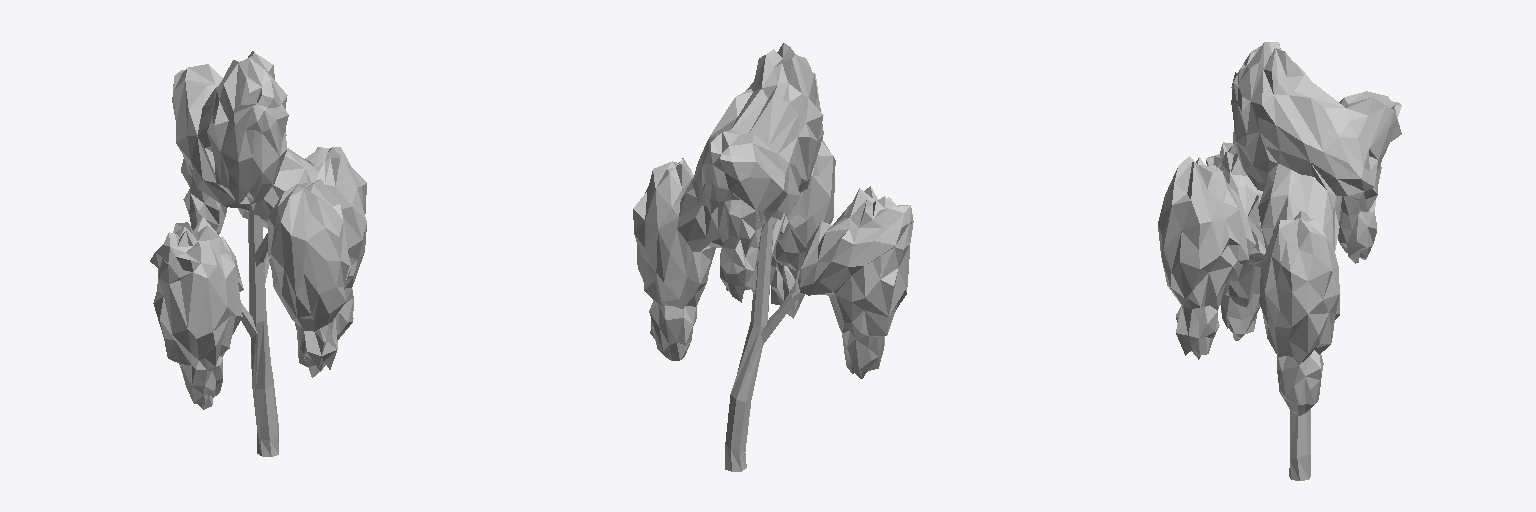
The model's file is tree_cylinder_2.obj.
3 renders of one model, left to right at view 1: azimuth 30°, elevation 25°; view 2: azimuth 150°, elevation 25°; view 3: azimuth 270°, elevation 25°, orthographic.
Visible parts, largest first — view 1: tree_cylinder_2; view 2: tree_cylinder_2; view 3: tree_cylinder_2.
Boxes of the visible parts, <box> form: tree_cylinder_2: <box>150,51,366,456</box>; tree_cylinder_2: <box>633,43,913,471</box>; tree_cylinder_2: <box>1158,42,1401,480</box>.
Bounding box in the file's own units: 1.16 × 1.97 × 1.04.